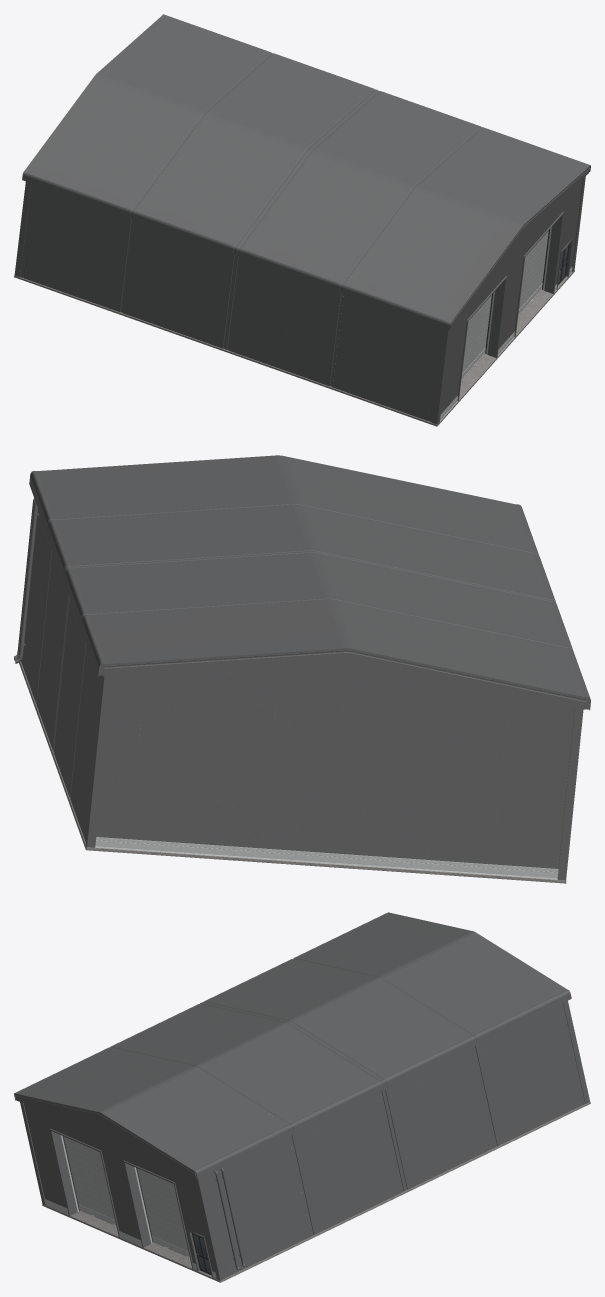
The model's file is Large_Warehouse.gltf.
The picture shows the model from 3 angles, top to bottom: view 1: azimuth 30°, elevation 25°; view 2: azimuth 150°, elevation 25°; view 3: azimuth 270°, elevation 25°; orthographic projection. The views are drawn at different scales.
Parts seen in each view (by area): view 1: Building_01_part_01, Building_01_part_02_01, Building_01_part_02, Building_01_part_03; view 2: Building_01_part_03, Building_01_part_01, Building_01_part_02, Building_01_part_02_01; view 3: Building_01_part_01, Building_01_part_02_01, Building_01_part_02, Building_01_part_03.
Boxes of the visible parts, box(x1,y1,x2,y2) form: Building_01_part_01: box(332, 127, 590, 426); Building_01_part_02_01: box(119, 52, 376, 351); Building_01_part_02: box(225, 90, 483, 389); Building_01_part_03: box(14, 14, 269, 313); Building_01_part_03: box(69, 600, 590, 883); Building_01_part_01: box(14, 455, 538, 706); Building_01_part_02: box(34, 503, 555, 753); Building_01_part_02_01: box(51, 551, 573, 801); Building_01_part_01: box(14, 1048, 312, 1282); Building_01_part_02_01: box(202, 957, 499, 1192); Building_01_part_02: box(108, 1002, 405, 1238); Building_01_part_03: box(295, 912, 590, 1147).
Size of the model in its own units: 27.44 by 12.28 by 29.71.
1 material, 1 textured.
